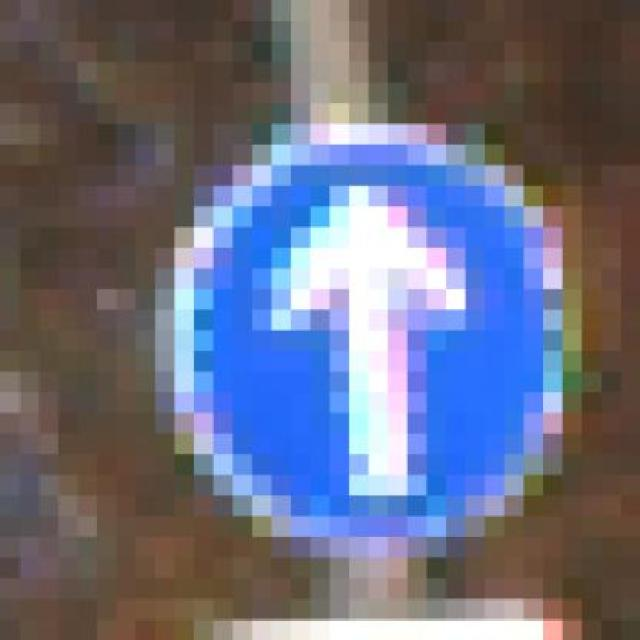Straight Ahead Only: (155, 82, 582, 578)
